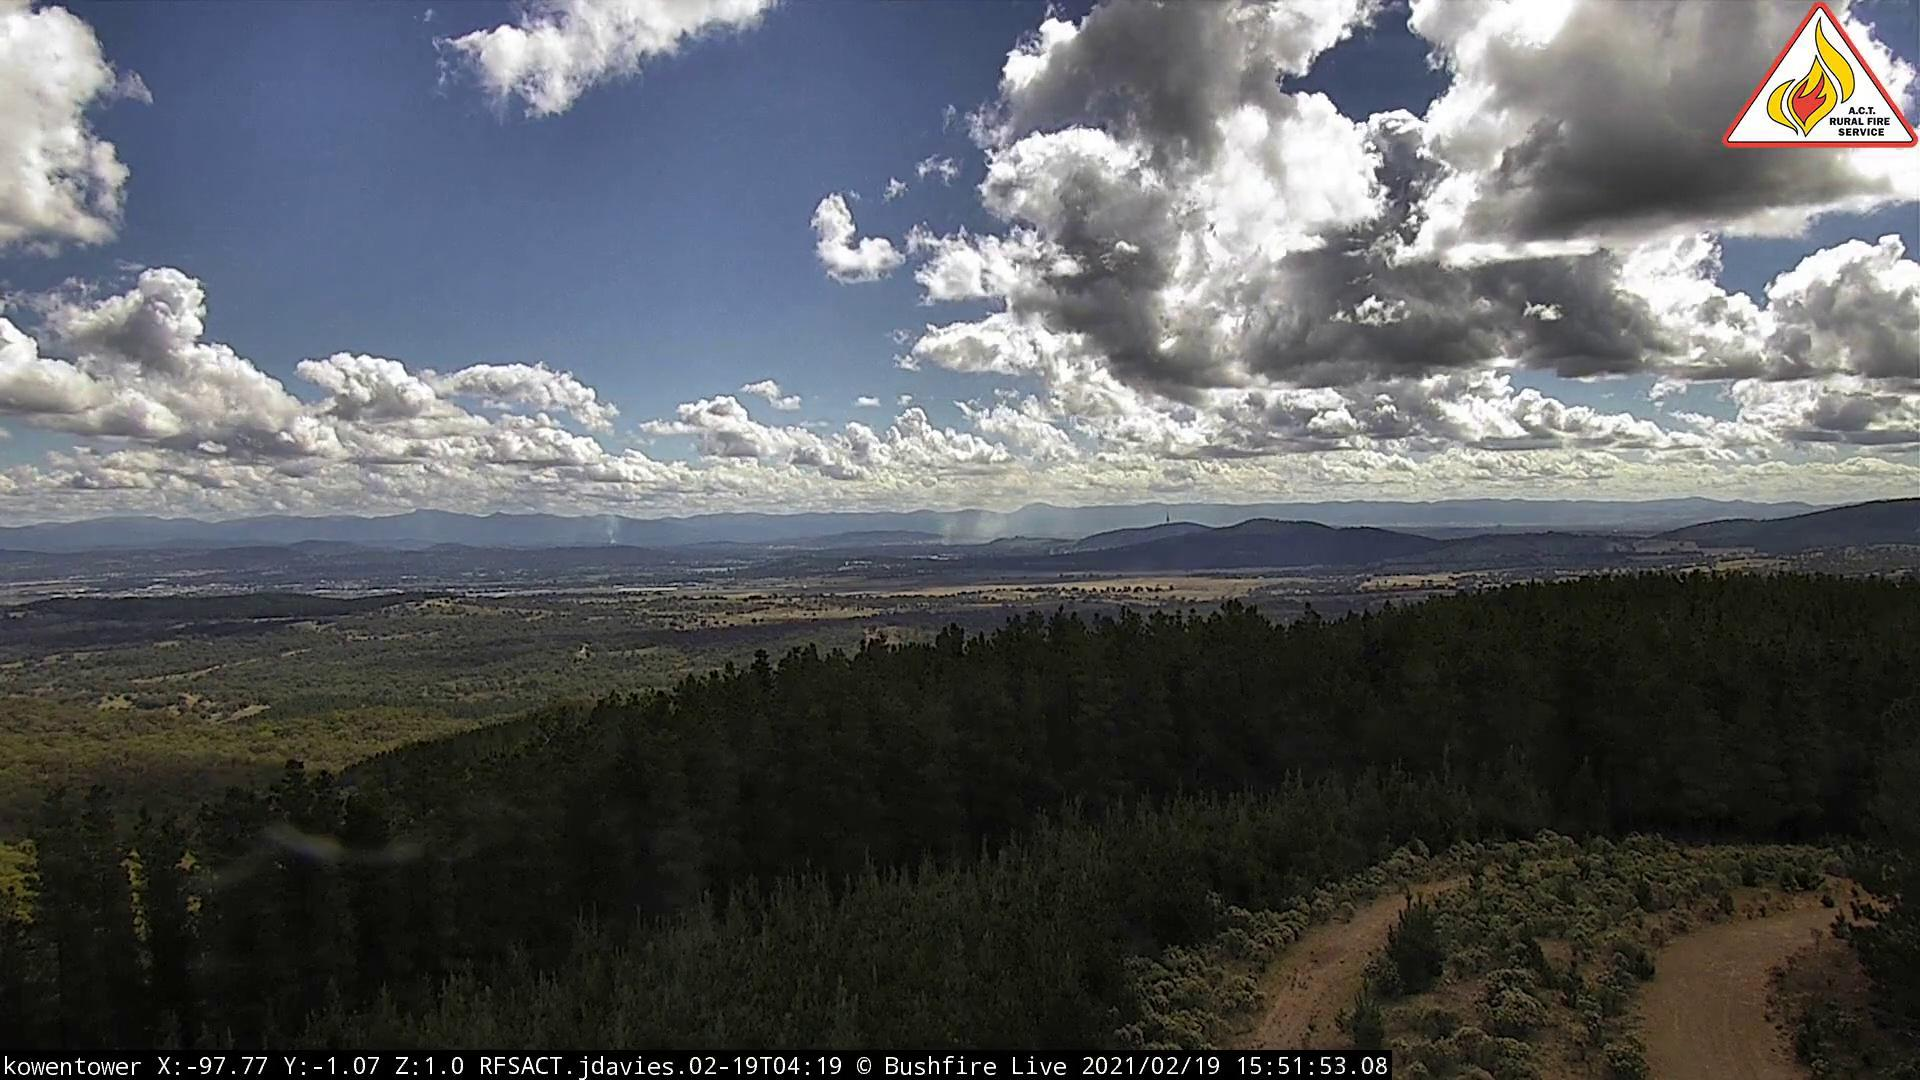Smoke: (938, 498, 1033, 550), (607, 527, 622, 553)
